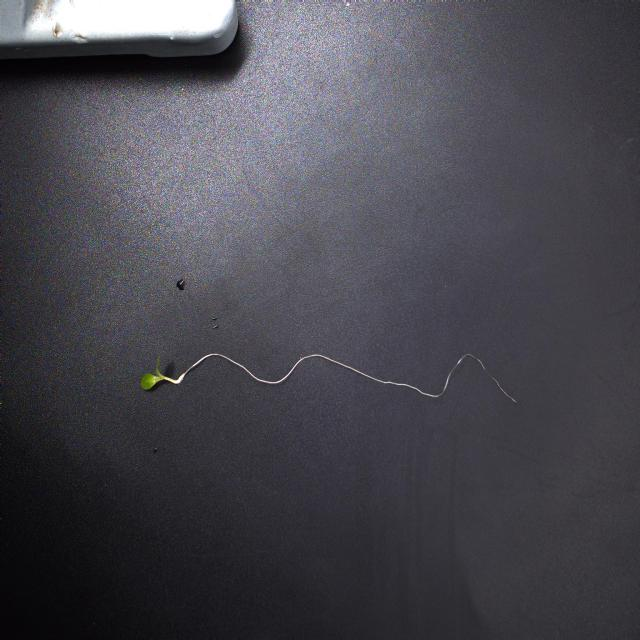leaf: (142, 354, 163, 392)
root: (187, 350, 520, 406)
steb: (163, 369, 186, 384)
